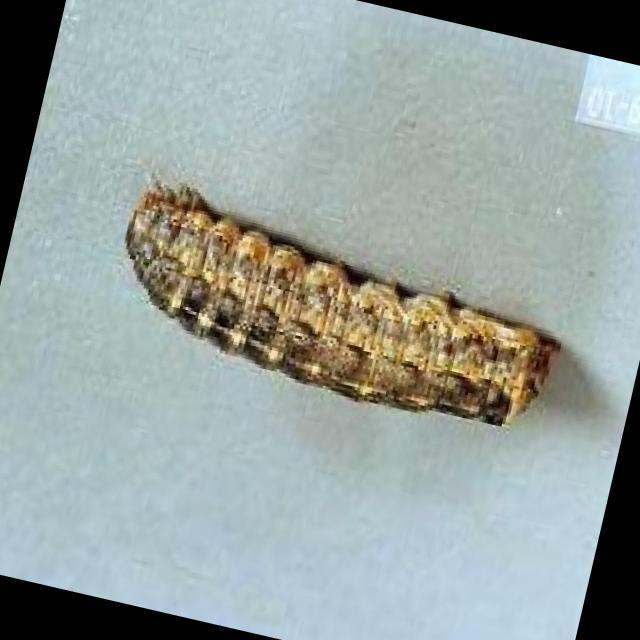Plaga: (89, 163, 589, 458)
